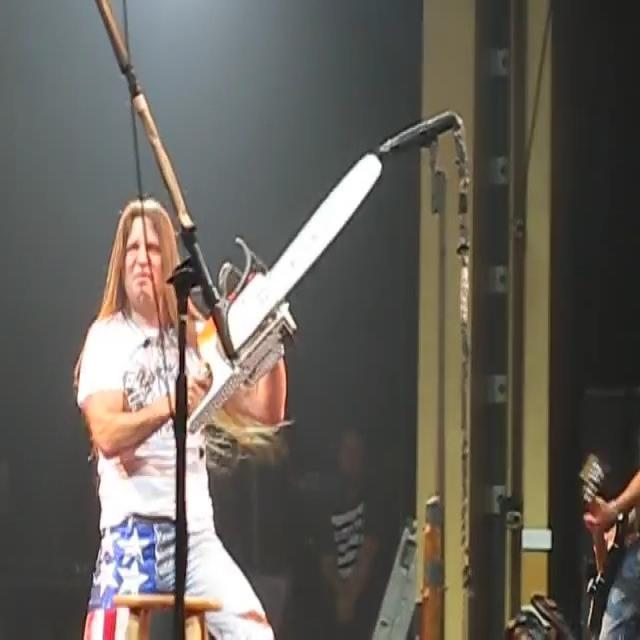Chainsaw: (152, 130, 412, 440)
